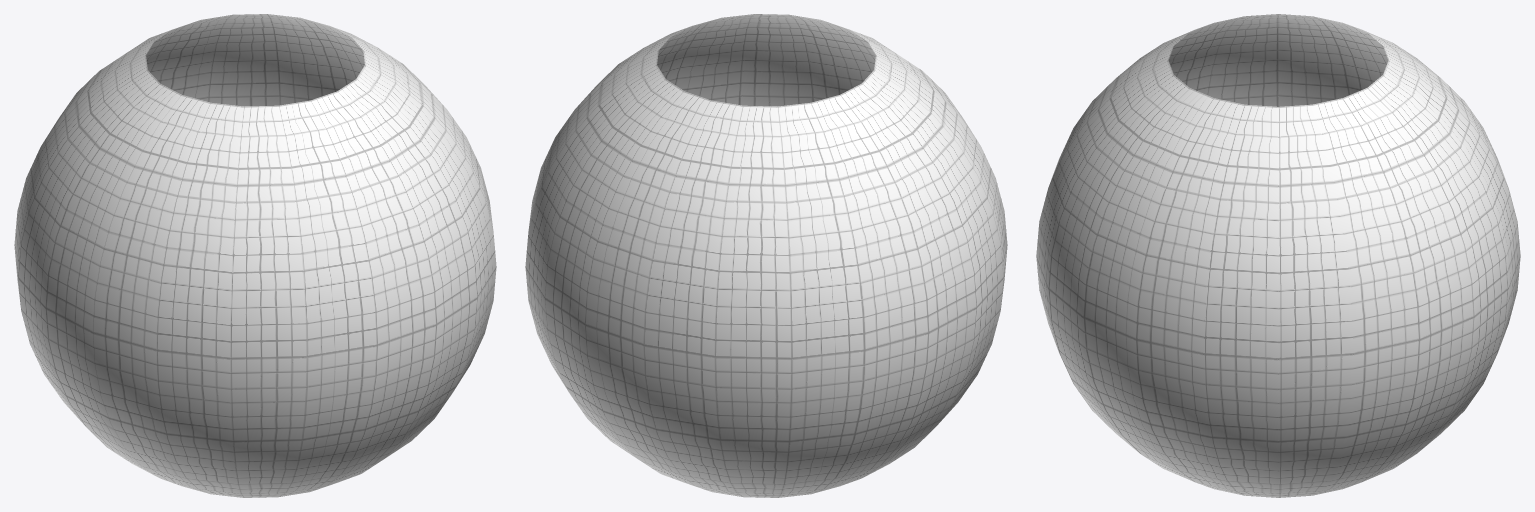
3 renders of one model, left to right at view 1: azimuth 30°, elevation 25°; view 2: azimuth 150°, elevation 25°; view 3: azimuth 270°, elevation 25°, orthographic.
Visible parts, largest first — view 1: Grid; view 2: Grid; view 3: Grid.
Boxes of the visible parts, bbox=[...] form: Grid: bbox=[14, 14, 496, 497]; Grid: bbox=[525, 14, 1007, 497]; Grid: bbox=[1036, 14, 1520, 497].
Size of the model in its own units: 438 by 390 by 438.
Materials: 1 (1 with a texture image).
